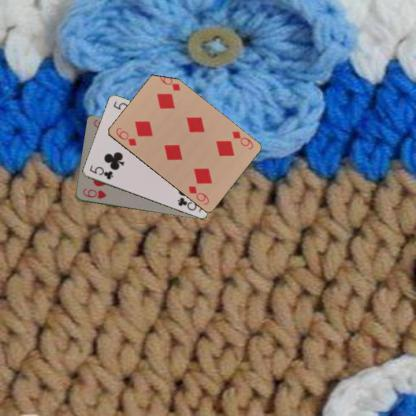5c: (87, 162, 114, 181)
6d: (229, 128, 255, 151), (112, 125, 138, 147)
6h: (80, 186, 107, 200)
